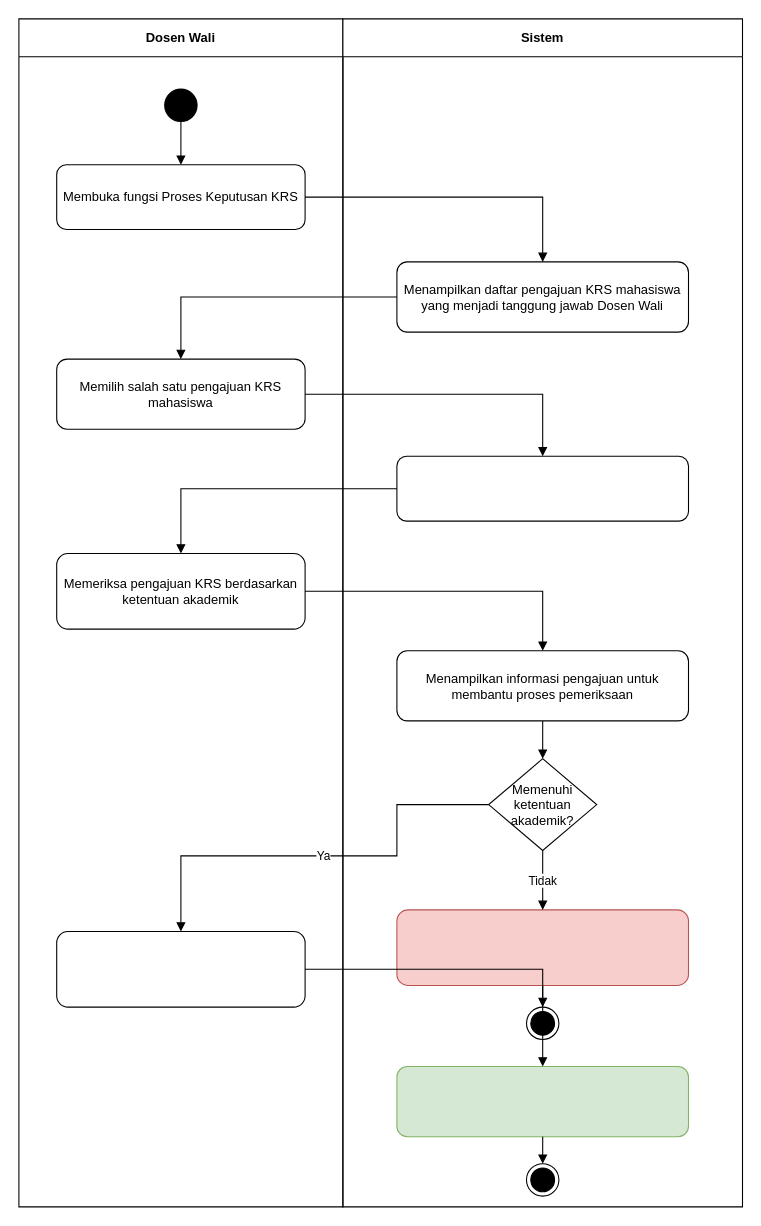
This 761x1226 diagram has some shape labels left out. Here are the shapes that lost their labels. From the top down, the centre of each, then its label:
(x=542, y=488): Menampilkan detail pengajuan KRS mahasiswa
(x=542, y=947): Menampilkan informasi bahwa pengajuan tidak memenuhi ketentuan akademik
(x=180, y=968): Menetapkan keputusan persetujuan atau penolakan
(x=542, y=1101): Menyimpan keputusan dan memperbarui status pengajuan KRS
